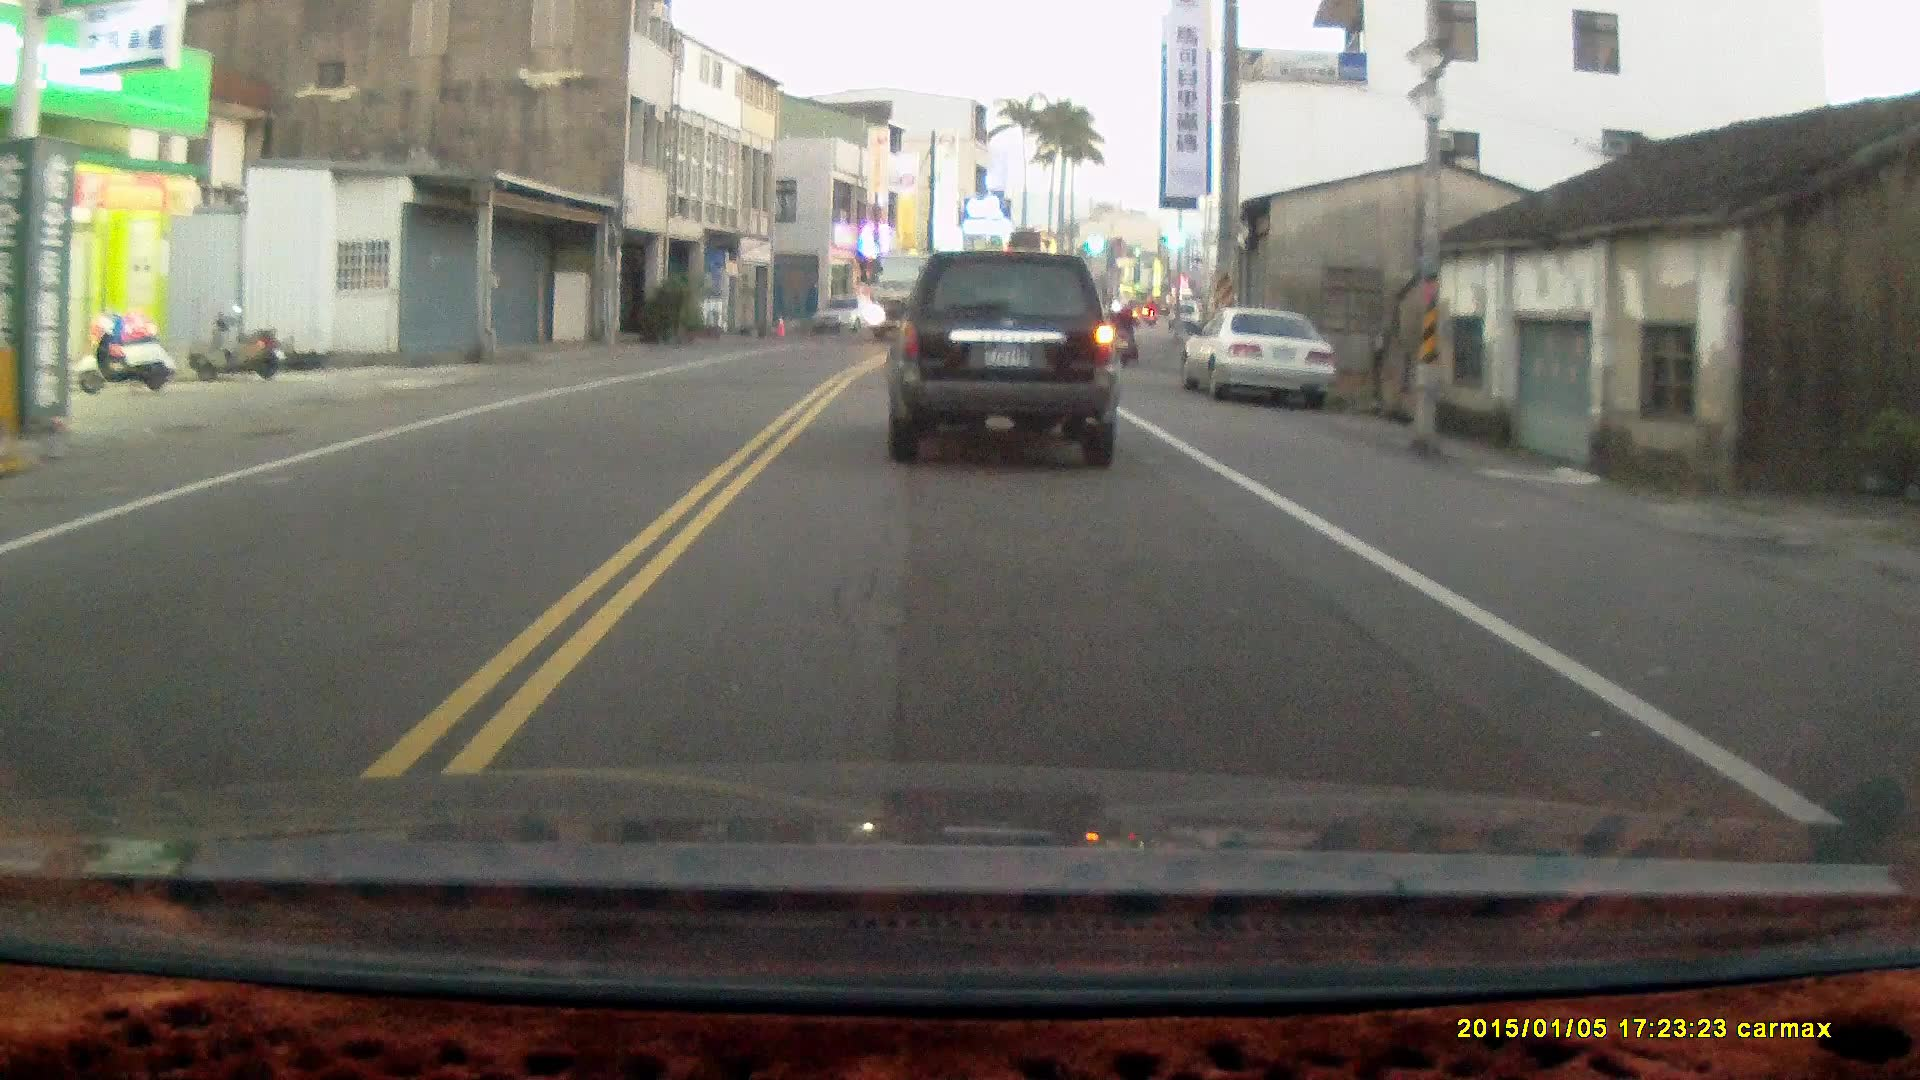rider: (1107, 295, 1140, 368)
vehicle: (885, 249, 1125, 475), (1181, 306, 1337, 417), (812, 294, 879, 338)
